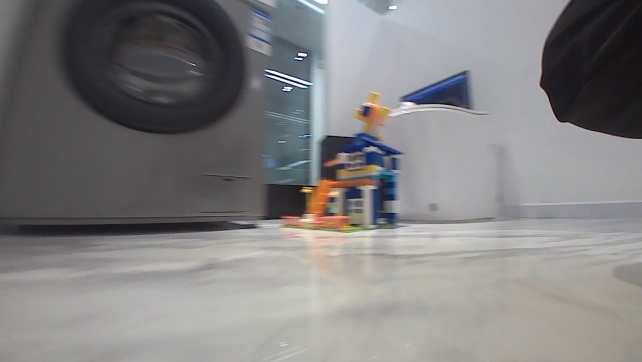plastic_toy: (280, 88, 401, 231)
toilet: (384, 103, 497, 222)
washing_machine: (0, 0, 272, 230)
